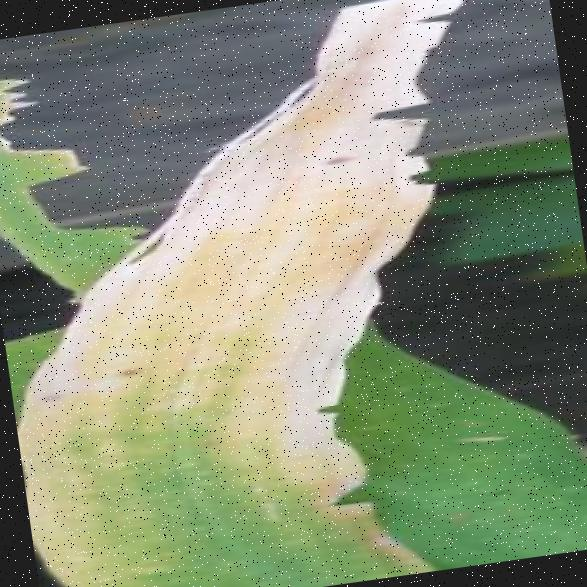Bacteria_Leaf_Blight: (0, 188, 365, 587)
